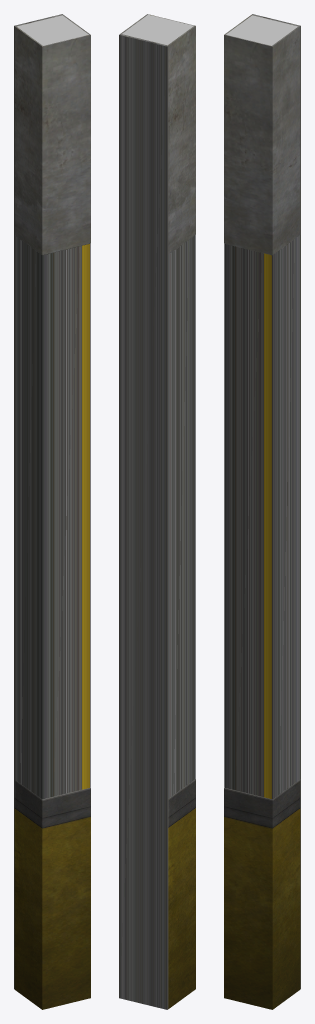
The model's file is SciFi_pillar.DAE.
3 views of the same model, side by side, from view 1: azimuth 30°, elevation 25°; view 2: azimuth 150°, elevation 25°; view 3: azimuth 330°, elevation 25° (orthographic).
Parts seen in each view (by area): view 1: colbox-01, LP_pillar, bounds; view 2: colbox-01, LP_pillar, bounds; view 3: colbox-01, LP_pillar, bounds.
Boxes of the visible parts, <box> form: colbox-01: <box>14,14,90,989</box>; LP_pillar: <box>14,15,90,1009</box>; bounds: <box>17,15,88,45</box>; colbox-01: <box>119,15,195,1009</box>; LP_pillar: <box>120,14,195,1008</box>; bounds: <box>122,14,193,45</box>; colbox-01: <box>224,14,300,989</box>; LP_pillar: <box>224,15,300,1009</box>; bounds: <box>226,15,297,45</box>.
Bounding box in the file's own units: 52.74 × 53.59 × 1000.
